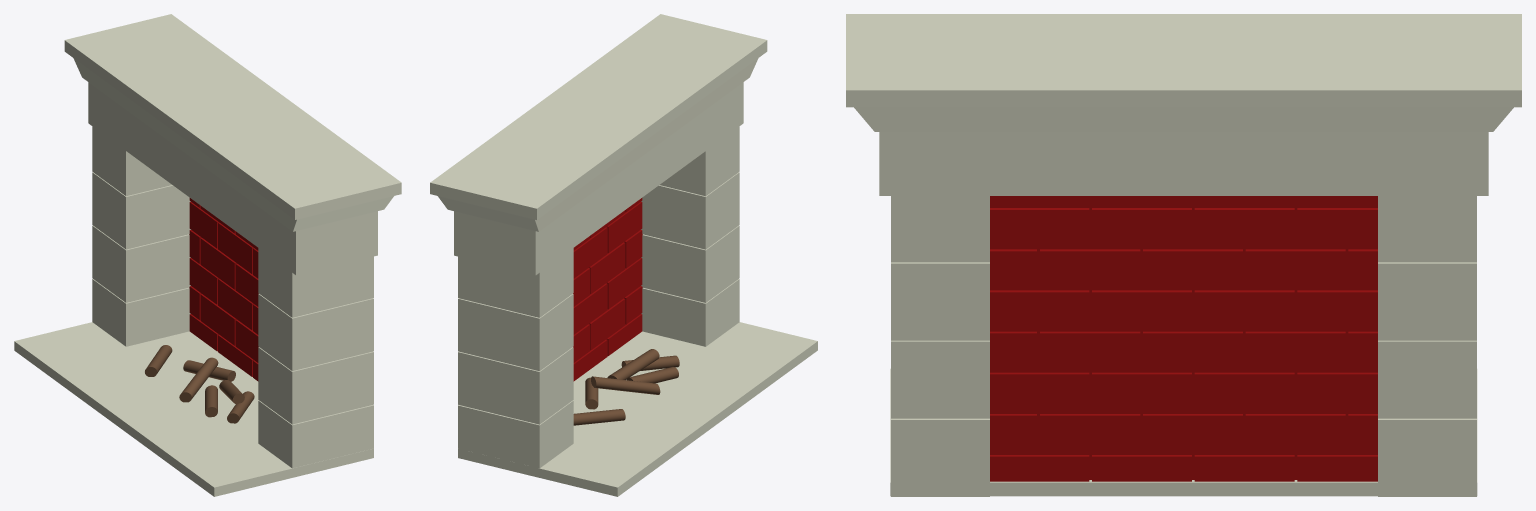
The picture shows the model from 3 angles, left to right: view 1: azimuth 30°, elevation 25°; view 2: azimuth 150°, elevation 25°; view 3: azimuth 270°, elevation 25°; orthographic projection. The views are drawn at different scales.
Parts seen in each view (by area): view 1: Box20277, Box20272, Box20275, Box20248, Box20233, Box20269, Box20259, Box20255, Box20270, Box20268, Box20276, Box20271 (+13 smaller); view 2: Box20277, Box20272, Box20275, Box20270, Box20269, Box20248, Box20271, Box20268, Box20233, Box20255, Box20276, Box20259 (+16 smaller); view 3: Box20277, Box20275, Box20276, Box20233, Box20248, Box20255, Box20268, Box20269, Box20270, Box20259, Box20271, Box20272 (+35 smaller).
Boxes of the visible parts, x1,y1,x2,y2 form: Box20277: (64,14,401,219); Box20272: (14,322,373,496); Box20275: (88,82,377,275); Box20248: (258,347,373,424); Box20233: (258,294,373,371); Box20269: (92,225,190,302); Box20259: (258,241,373,317); Box20255: (258,400,373,468); Box20270: (92,172,190,249); Box20268: (92,279,190,346); Box20276: (73,58,393,231); Box20271: (92,119,171,196); Box20277: (430,14,767,219); Box20272: (458,322,817,496); Box20275: (454,82,743,275); Box20270: (458,294,573,371); Box20269: (458,347,573,424); Box20248: (641,225,739,302); Box20271: (458,241,573,317); Box20268: (458,400,573,468); Box20233: (641,172,739,249); Box20255: (641,279,739,346); Box20276: (438,58,758,231); Box20259: (660,126,739,196); Box20277: (846,14,1521,107); Box20275: (879,132,1488,195); Box20276: (854,107,1513,131); Box20233: (891,262,989,340); Box20248: (891,340,989,418); Box20255: (891,418,989,496); Box20268: (1378,418,1476,496); Box20269: (1378,340,1476,418); Box20270: (1378,262,1476,340); Box20259: (891,185,989,262); Box20271: (1378,185,1476,262); Box20272: (890,368,1477,496).
Bounding box in the file's own units: 10774 × 16919 × 24938.
